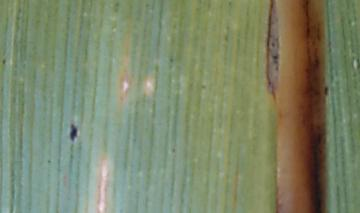tarspot: (69, 124, 78, 142), (322, 85, 330, 97), (272, 54, 279, 64), (269, 41, 276, 48), (1, 58, 7, 66)
